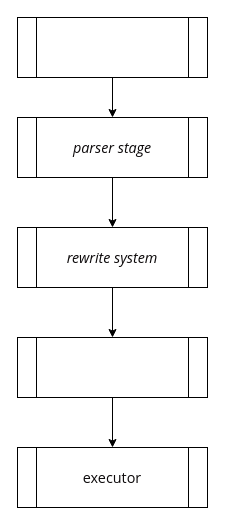
Image size: 225x525. Some labels were removed from this diagram. Each missing label, with the box of its shape:
connect transmit query: (16, 16, 208, 78)
planner/optimizer: (16, 336, 208, 398)
